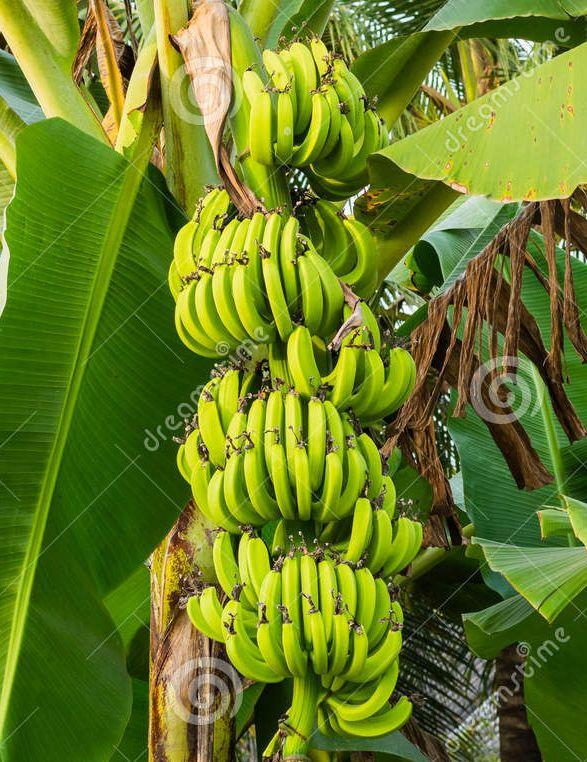Banana Unripe: (112, 28, 470, 762)
